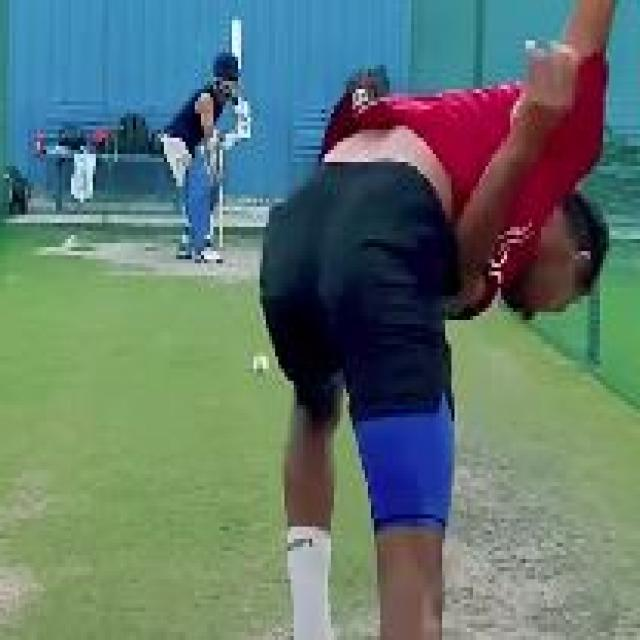ball: (248, 350, 271, 379)
